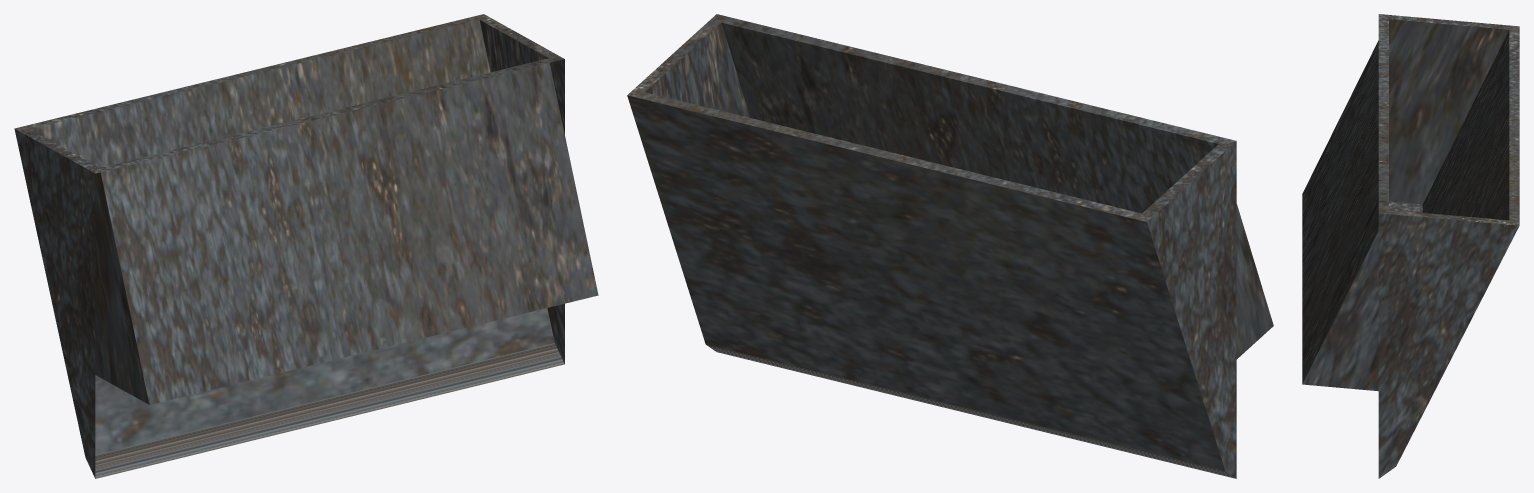
The model's file is gEARS.glb.
3 renders of one model, left to right at view 1: azimuth 30°, elevation 25°; view 2: azimuth 150°, elevation 25°; view 3: azimuth 270°, elevation 25°, orthographic. The views are drawn at different scales.
Visible parts, largest first — view 1: Sertat; view 2: Sertat; view 3: Sertat.
Part boxes in pixels (left/top/right/bottom): Sertat: left=14, top=14, right=598, bottom=478; Sertat: left=627, top=14, right=1273, bottom=478; Sertat: left=1302, top=14, right=1519, bottom=478.
Size of the model in its own units: 1.61 by 1 by 0.7411.
Materials: 1 (1 with a texture image).
